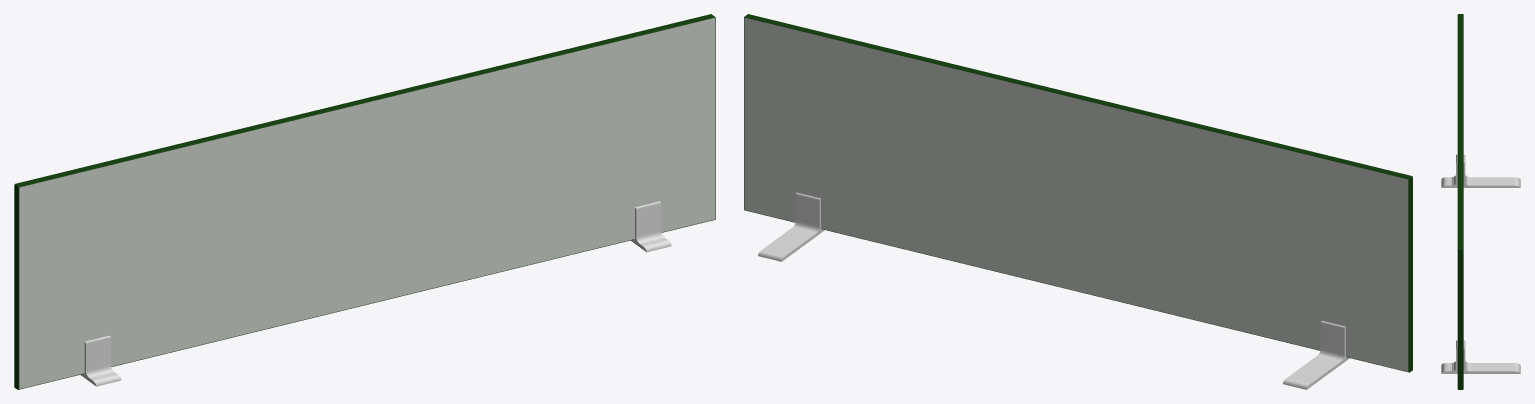
The picture shows the model from 3 angles, left to right: view 1: azimuth 30°, elevation 25°; view 2: azimuth 150°, elevation 25°; view 3: azimuth 270°, elevation 25°; orthographic projection. The views are drawn at different scales.
Size of the model in its own units: 0.7416 by 0.2107 by 0.1052.
